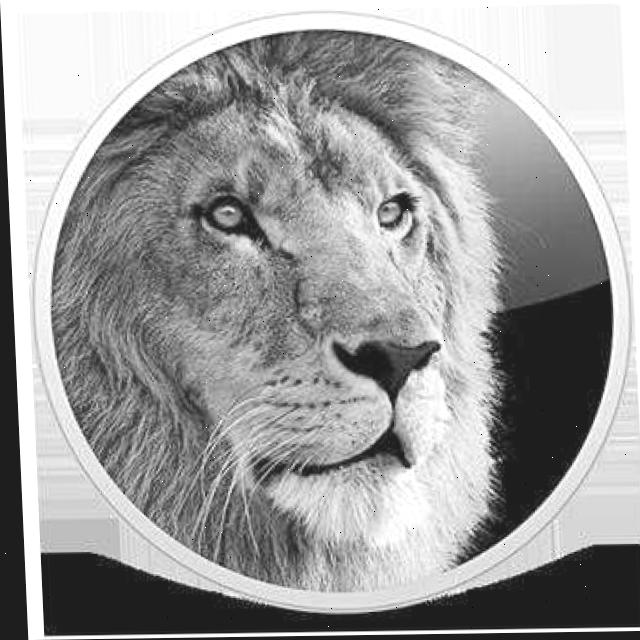Lion: (27, 22, 519, 525)
